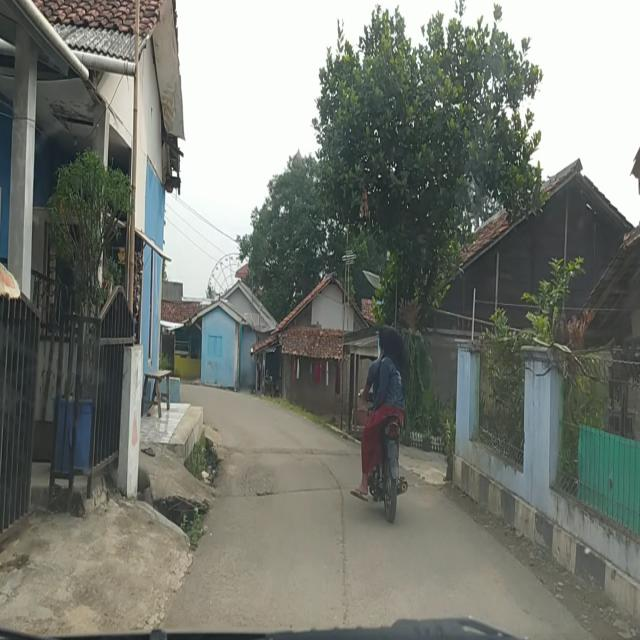Drain Hole: (228, 462, 282, 499)
Sewer Cover: (219, 474, 411, 497)
